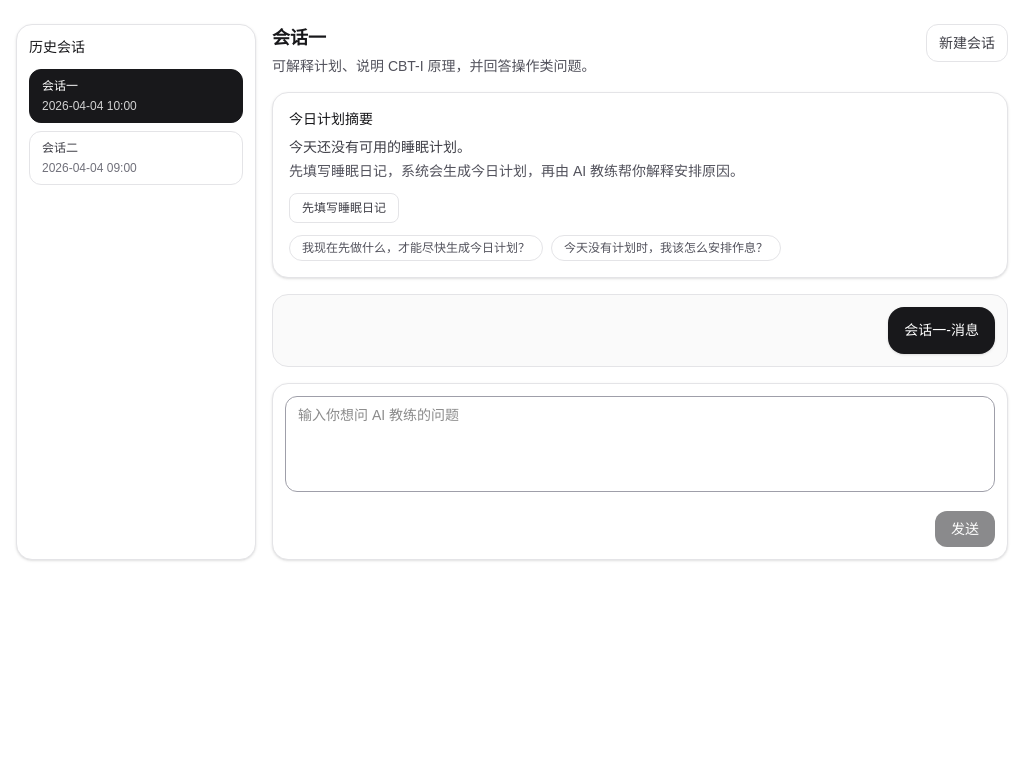
CoachShell › 第二次切回同一会话命中缓存，不重复请求
Click the button with test id "coach-history-item-c2". click: x=136, y=158
box: [29,131,243,185]
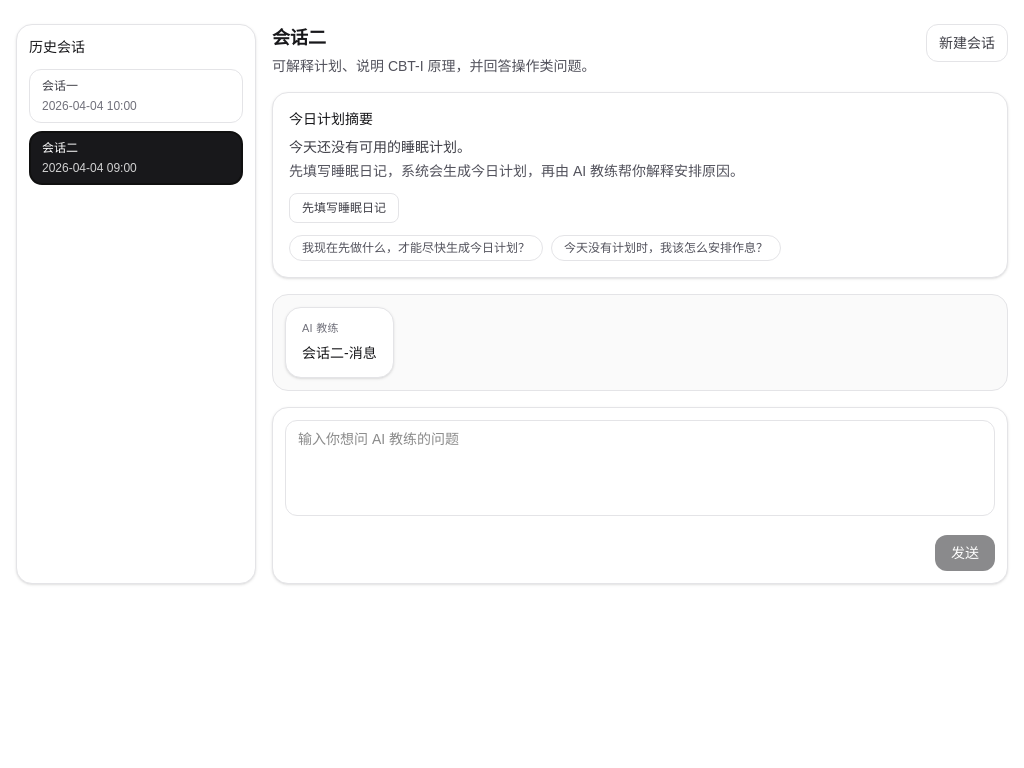
Check: the text "会话二-消息" is shown, box [302,342,377,365]
Click the button with test id "coach-history-item-c1". click: x=136, y=96
box: [29,69,243,123]
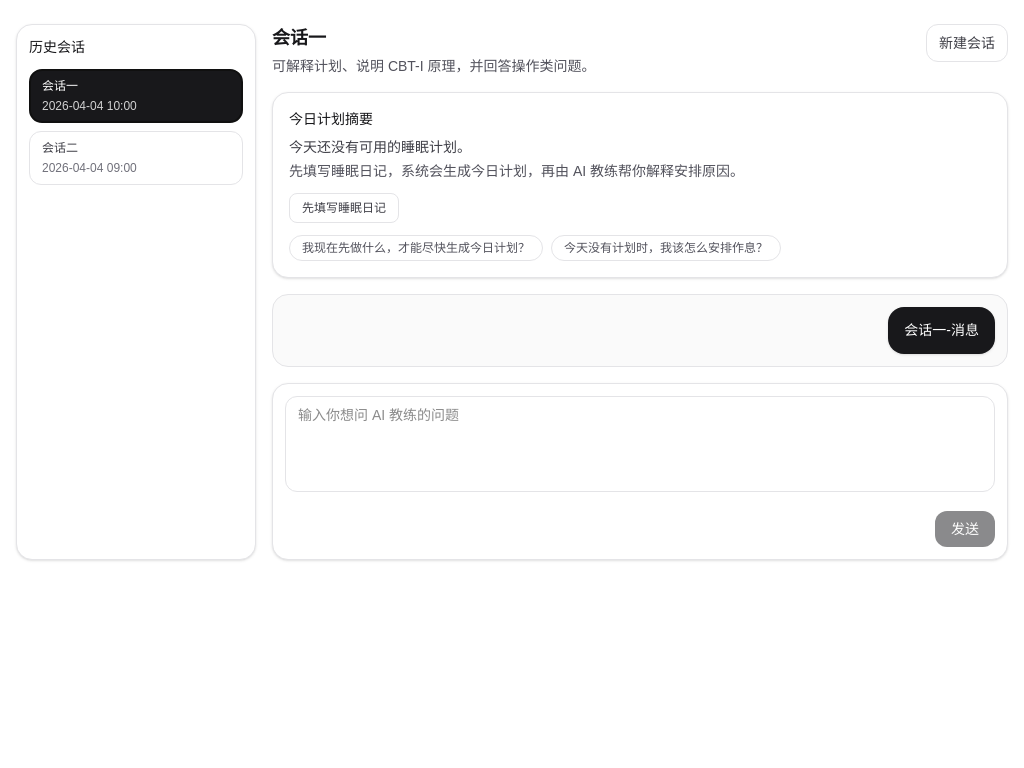
Check: the text "会话一-消息" is shown, box [904,319,979,342]
Click the button with test id "coach-history-item-c2". click: x=136, y=158
box: [29,131,243,185]
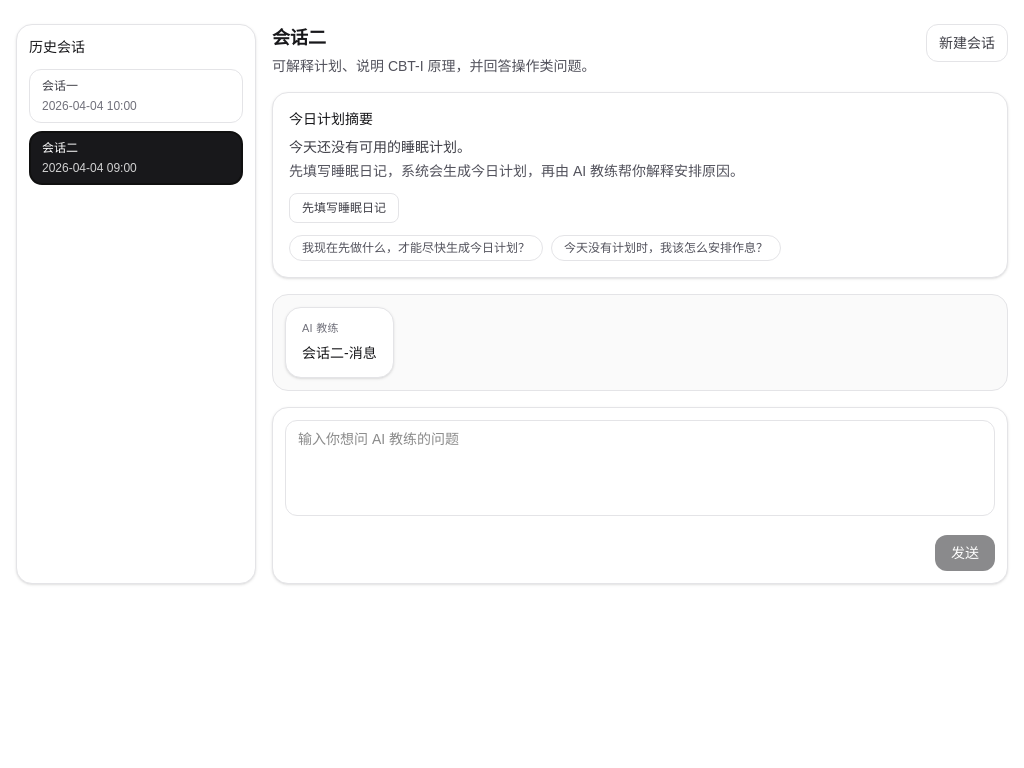
Check: the text "会话二-消息" is shown, box [302,342,377,365]
